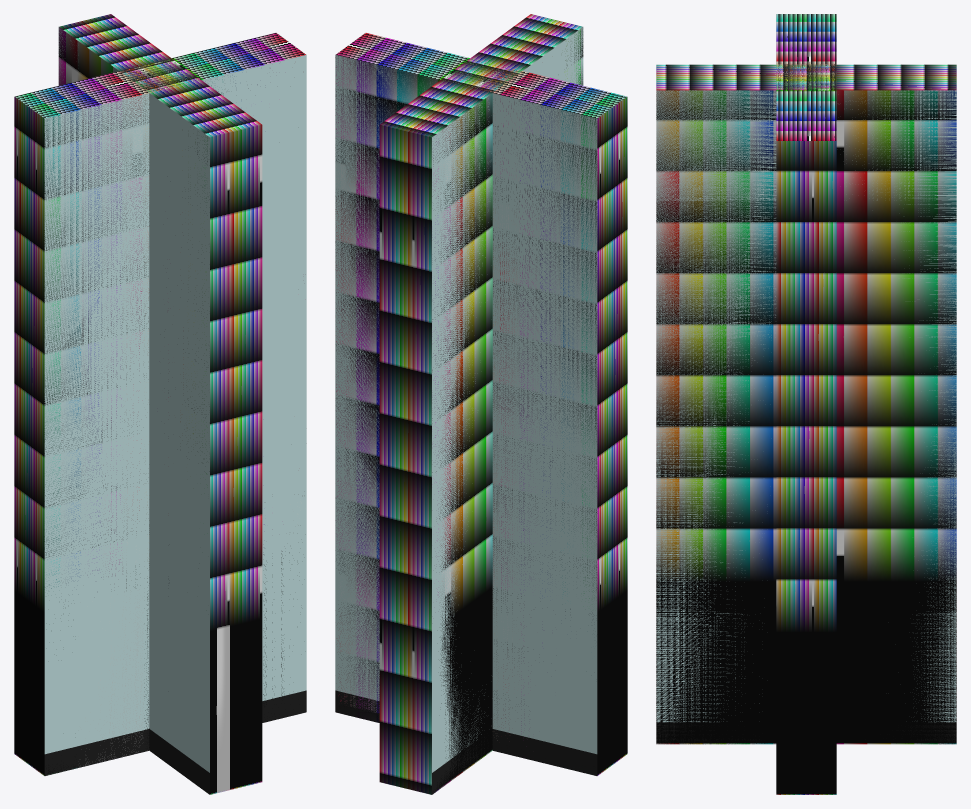
Rendered from interiorWall_Crossroad_half.fbx.
The picture shows the model from 3 angles, left to right: view 1: azimuth 30°, elevation 25°; view 2: azimuth 150°, elevation 25°; view 3: azimuth 270°, elevation 25°; orthographic projection.
Visible parts, largest first — view 1: interiorWall_Crossroad_half, trigger_1, trigger_2; view 2: interiorWall_Crossroad_half, trigger_1, trigger_2; view 3: trigger_1, trigger_2, interiorWall_Crossroad_half.
Part boxes in pixels (left/top/right/bottom): interiorWall_Crossroad_half: left=44, top=27, right=306, bottom=794; trigger_1: left=58, top=14, right=262, bottom=794; trigger_2: left=14, top=33, right=306, bottom=775; interiorWall_Crossroad_half: left=335, top=28, right=597, bottom=794; trigger_1: left=379, top=14, right=583, bottom=794; trigger_2: left=335, top=33, right=627, bottom=775; trigger_1: left=656, top=64, right=956, bottom=744; trigger_2: left=776, top=14, right=836, bottom=794; interiorWall_Crossroad_half: left=656, top=90, right=956, bottom=744.
Size of what is drawn, in the model's own units: 125 by 300 by 125.
